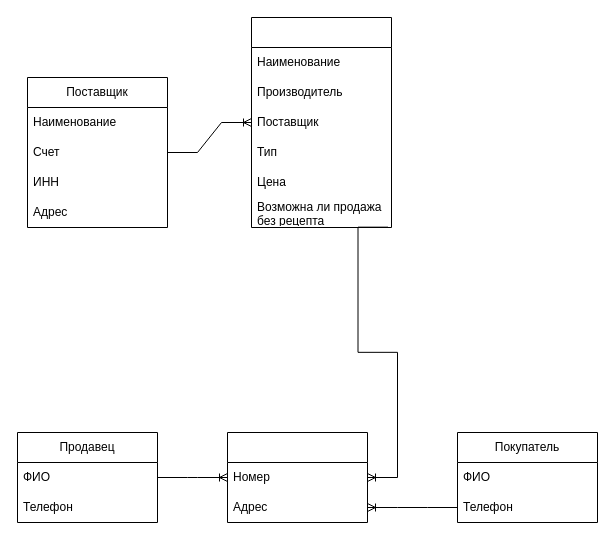
Image size: 615x540. Some labels were removed from this diagram. The box of each missing label's shape, as (x1, y1, x2, y2) in pixels:
Лекарство: (250, 16, 392, 228)
Филиал аптеки: (226, 432, 368, 522)
